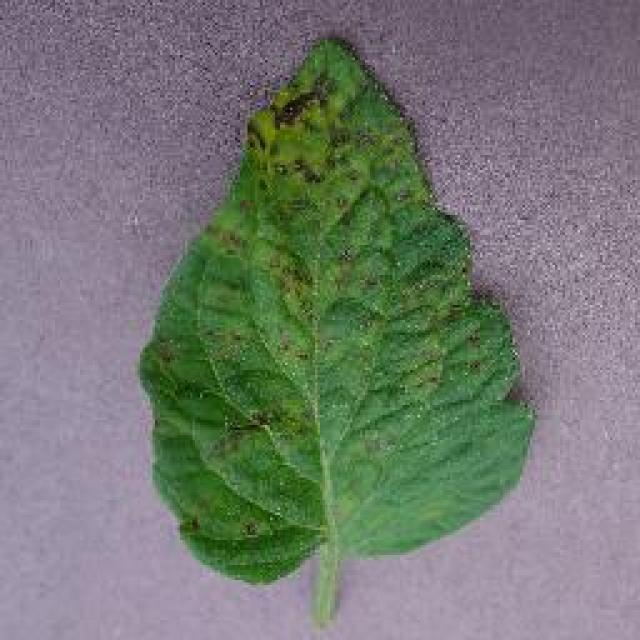Tomato Septoria spot leaf: (139, 29, 532, 584)
